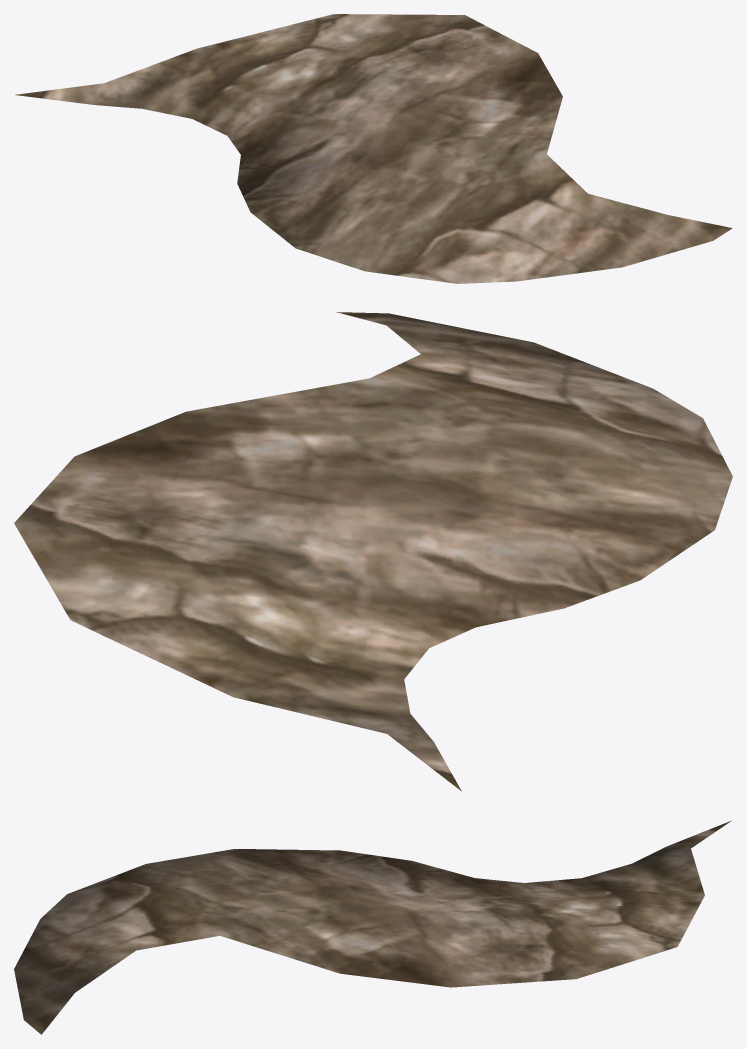
Rendered from OVERHILL_A_01_LINE116.fbx.
The picture shows the model from 3 angles, top to bottom: view 1: azimuth 30°, elevation 25°; view 2: azimuth 150°, elevation 25°; view 3: azimuth 270°, elevation 25°; orthographic projection. The views are drawn at different scales.
Visible parts, largest first — view 1: OVERHILL_A_01_LINE116; view 2: OVERHILL_A_01_LINE116; view 3: OVERHILL_A_01_LINE116.
Boxes of the visible parts, x1,y1,x2,y2 form: OVERHILL_A_01_LINE116: (15, 14, 732, 283); OVERHILL_A_01_LINE116: (14, 312, 732, 791); OVERHILL_A_01_LINE116: (14, 820, 731, 1034).
Bounding box in the file's own units: 51341 × 4834 × 72595.
1 material, 1 textured.
